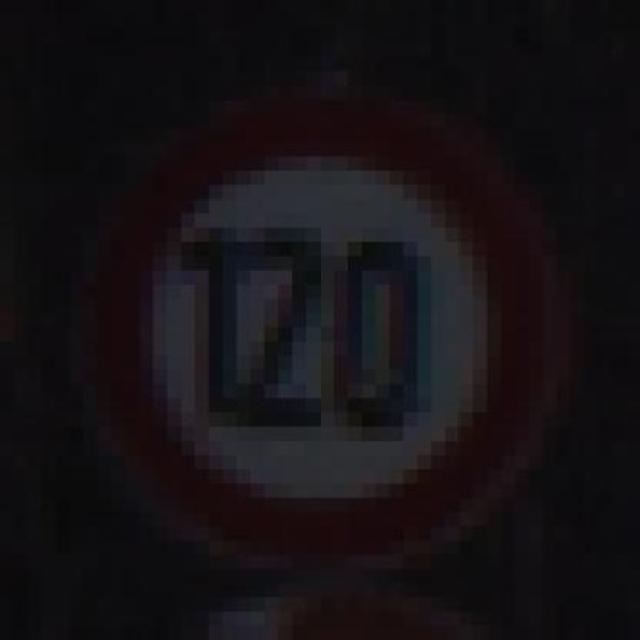forb_speed_over_120: (99, 97, 550, 566)
